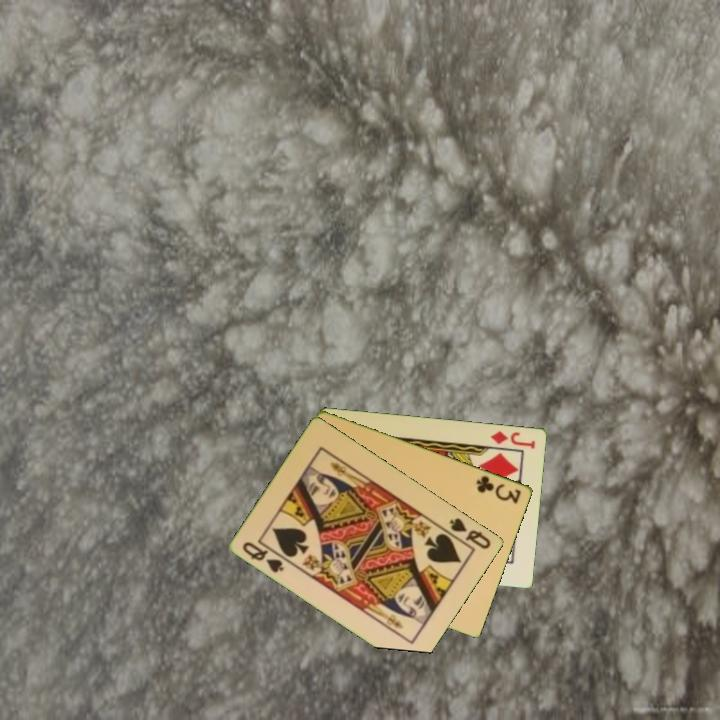3c: (473, 472, 524, 506)
Jd: (488, 427, 538, 451)
Qs: (239, 538, 291, 576), (446, 514, 494, 552)
